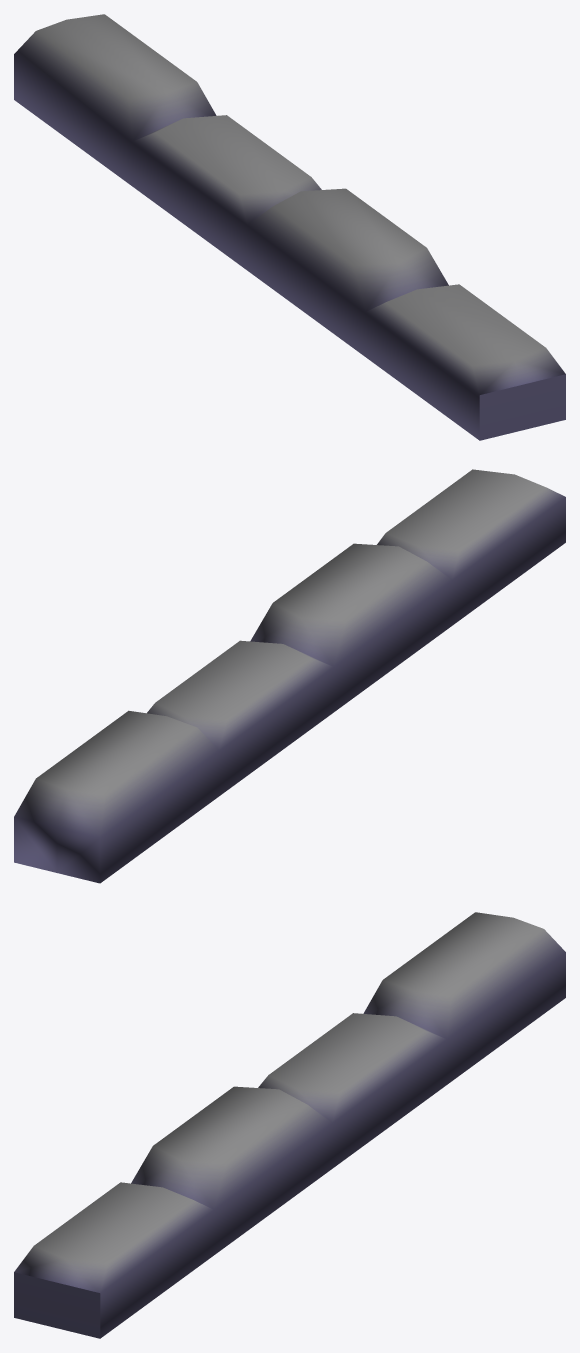
The model's file is stone_ledge2.fbx.
The picture shows the model from 3 angles, top to bottom: view 1: azimuth 30°, elevation 25°; view 2: azimuth 150°, elevation 25°; view 3: azimuth 330°, elevation 25°; orthographic projection.
Parts seen in each view (by area): view 1: stone_ledge1; view 2: stone_ledge1; view 3: stone_ledge1.
Boxes of the visible parts, x1,y1,x2,y2 form: stone_ledge1: (14,14,565,440); stone_ledge1: (14,469,565,883); stone_ledge1: (14,912,565,1338).
Size of the model in its own units: 4.26 by 3.61 by 39.85.
